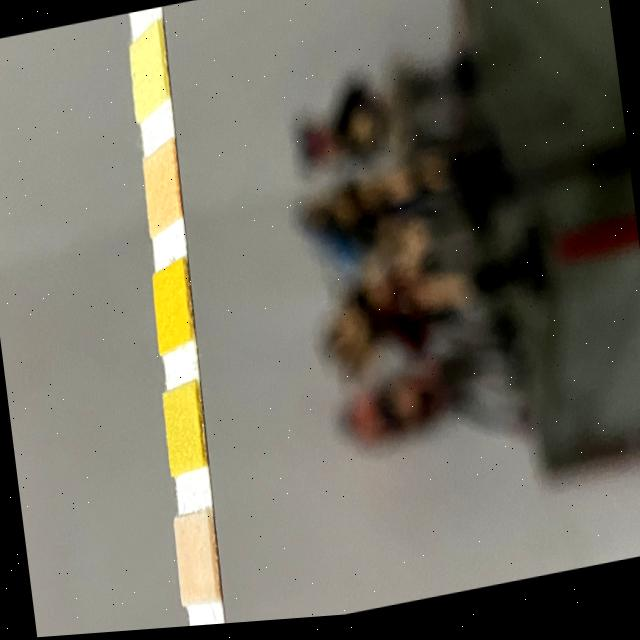Blood: (151, 270, 194, 348)
Ketone: (172, 513, 216, 606)
Protein: (128, 38, 168, 104)
SpGravity: (162, 391, 204, 474)
pH: (141, 155, 181, 225)
